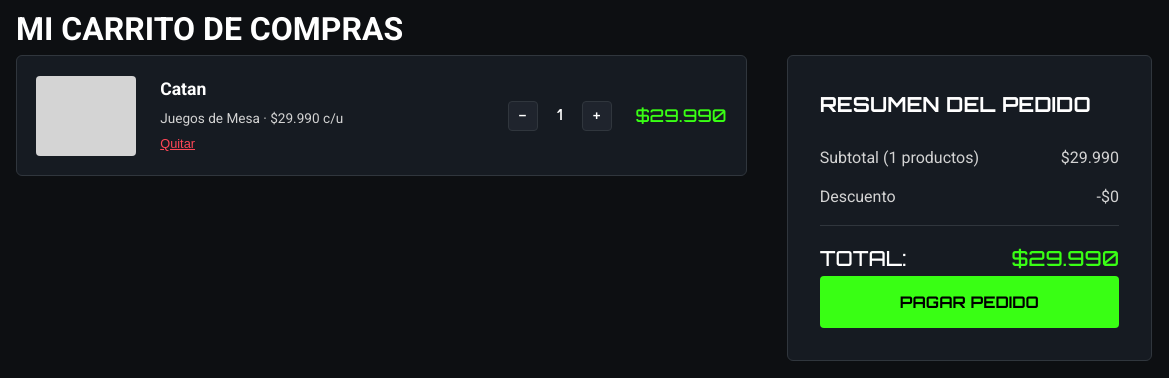
Test case: pagina Carrito › controles de cantidad › el botón + aumenta la cantidad
This screenshot has width=1169, height=378.
Click the button named "Aumentar cantidad". click: click(597, 116)
box: [582,100,612,130]
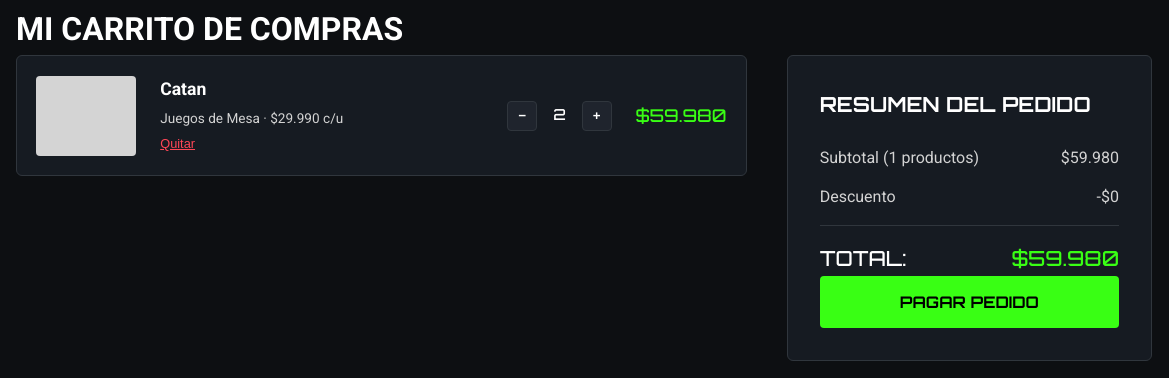
Expected: the text "2" is shown, [553,105,566,124]
